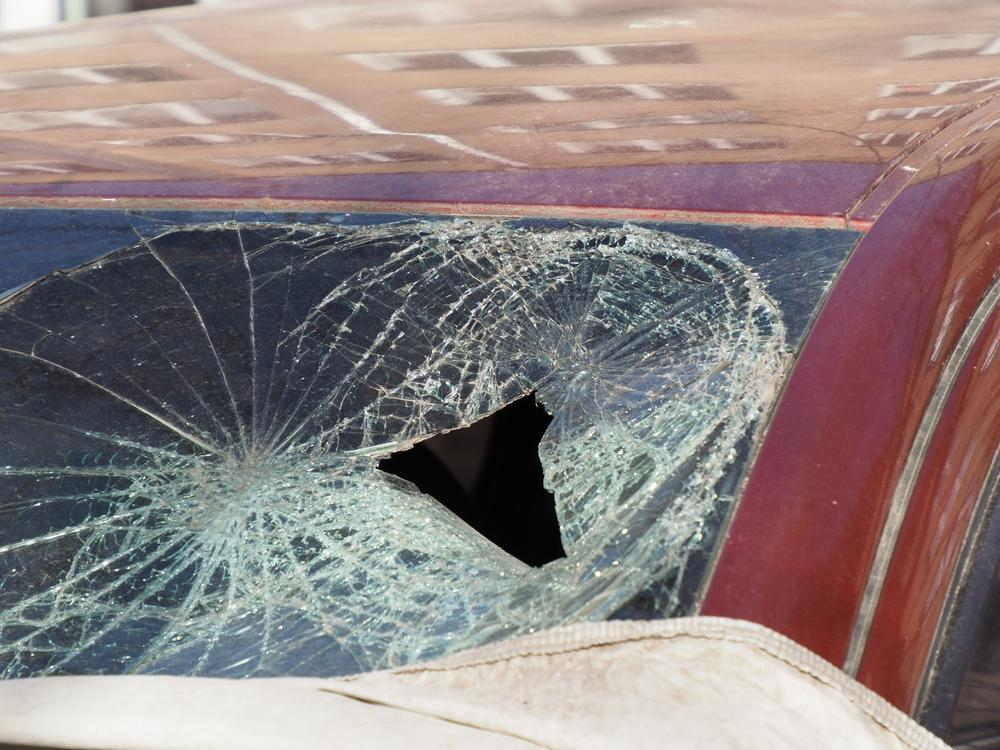glass shatter: (0, 206, 864, 680)
